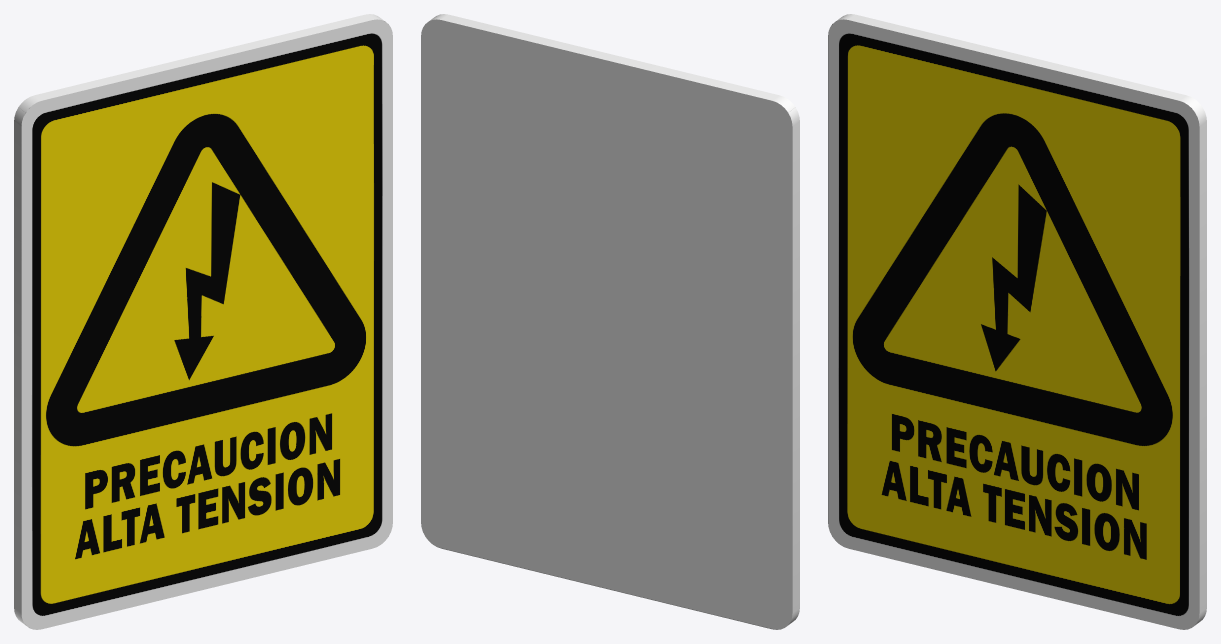
The model's file is señales.fbx.
3 views of the same model, side by side, from view 1: azimuth 30°, elevation 25°; view 2: azimuth 150°, elevation 25°; view 3: azimuth 330°, elevation 25° (orthographic).
Parts seen in each view (by area): view 1: alta_tension_0; view 2: alta_tension_0; view 3: alta_tension_0.
Part boxes in pixels (left/top/right/bottom): alta_tension_0: left=14, top=14, right=392, bottom=629; alta_tension_0: left=421, top=14, right=799, bottom=629; alta_tension_0: left=828, top=14, right=1206, bottom=629.
Bounding box in the file's own units: 1471 × 2000 × 50.95.
